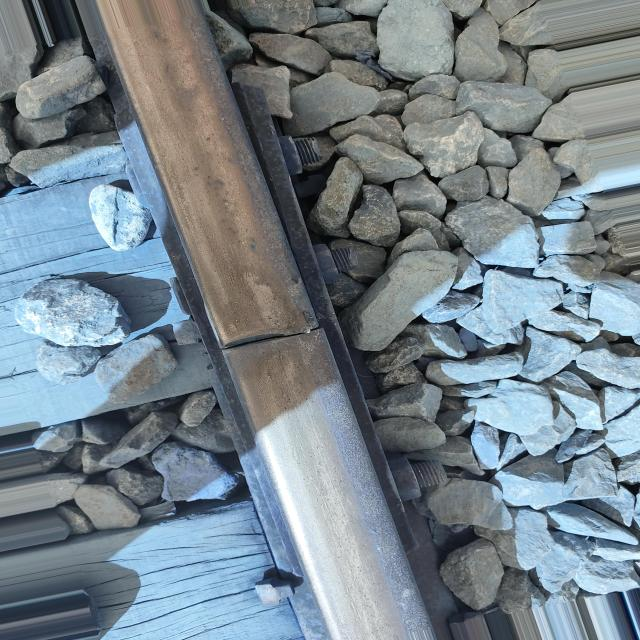crack: (178, 319, 353, 362)
